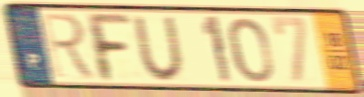1: (200, 13, 234, 86)
7: (268, 14, 314, 88)
F: (82, 10, 135, 85)
O: (227, 16, 276, 85)
R: (38, 11, 99, 83)
U: (130, 14, 188, 83)
